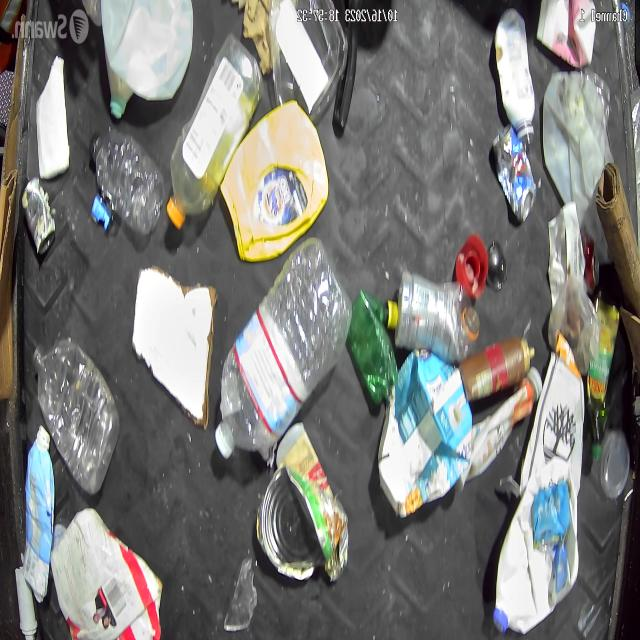can: (257, 461, 333, 577), (491, 125, 535, 223), (21, 174, 55, 257), (582, 237, 599, 294)
milk_jug: (493, 457, 580, 636), (542, 70, 618, 266), (99, 0, 195, 118)
non_white_jug: (220, 101, 330, 261), (377, 345, 473, 519), (22, 425, 55, 604), (536, 0, 596, 69)
plastic_bottle: (215, 235, 353, 460), (166, 34, 264, 229), (33, 336, 120, 496), (89, 126, 165, 238), (394, 274, 478, 364)
